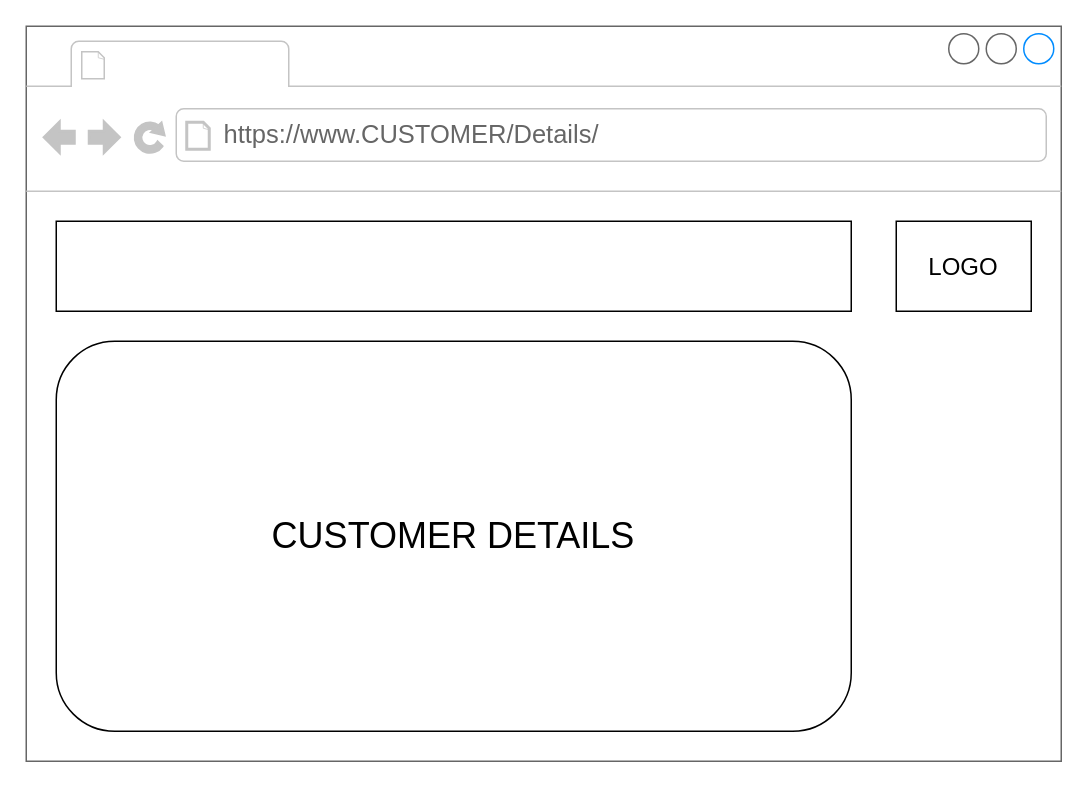
The diagram is 1088 pixels wide and 788 high, and some of its shapes have lost their labels. Here are the shapes that lost their labels. From the top down, the box of each, then its label:
(115, 43, 281, 83): DETAILS
(55, 220, 851, 311): TITLE
